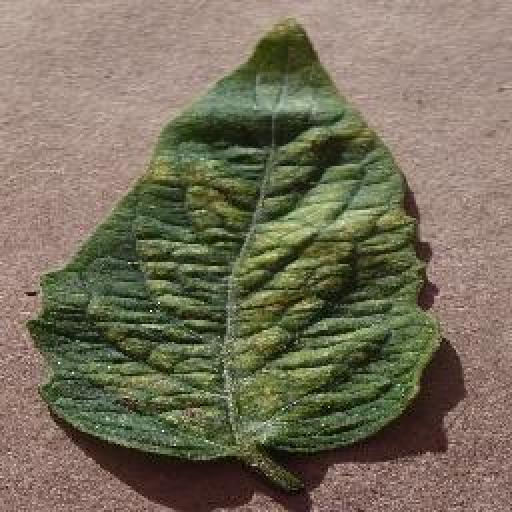disease_tomato: (24, 16, 440, 463)
